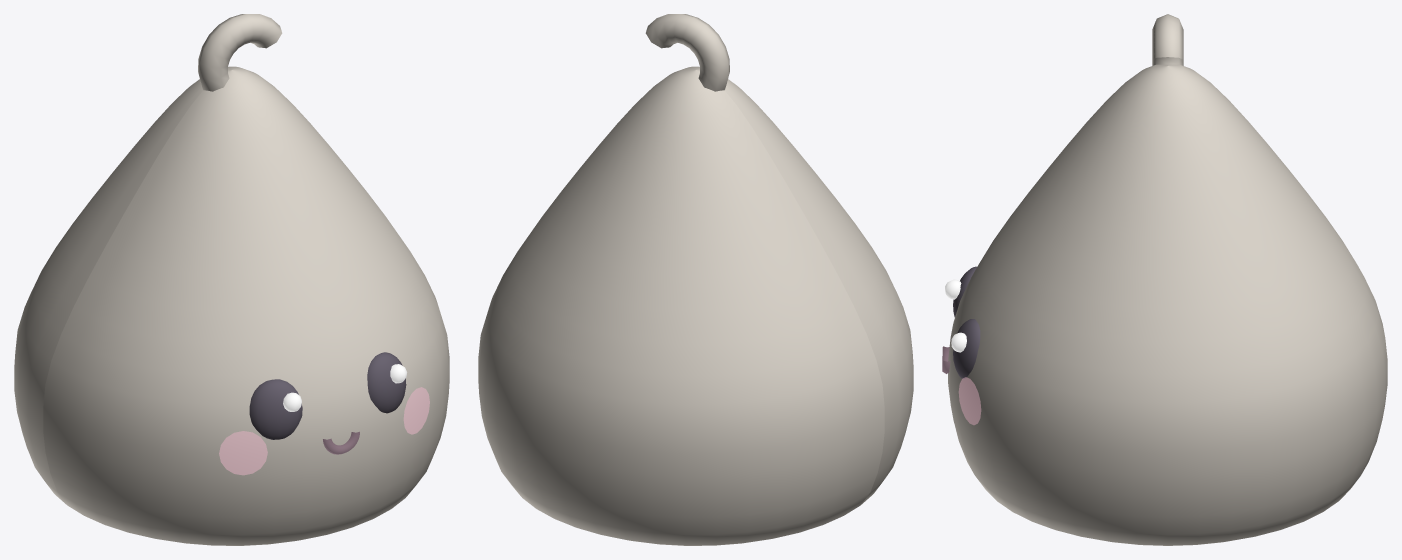
The model's file is squishy_blob.glb.
The picture shows the model from 3 angles, left to right: view 1: azimuth 30°, elevation 25°; view 2: azimuth 150°, elevation 25°; view 3: azimuth 270°, elevation 25°; orthographic projection.
Parts seen in each view (by area): view 1: Body, Part_0, Part_1, Part_3, Part_4, Part_6; view 2: Body, Part_0; view 3: Body, Part_0, Part_4, Part_6.
Part boxes in pixels (bbox=[...]): Body: bbox=[14, 66, 449, 545]; Part_0: bbox=[198, 14, 282, 91]; Part_1: bbox=[249, 379, 302, 439]; Part_3: bbox=[219, 431, 267, 475]; Part_4: bbox=[367, 352, 406, 413]; Part_6: bbox=[403, 387, 429, 434]; Body: bbox=[478, 66, 913, 545]; Part_0: bbox=[645, 14, 729, 91]; Body: bbox=[948, 64, 1387, 545]; Part_0: bbox=[1152, 14, 1183, 65]; Part_4: bbox=[953, 319, 980, 378]; Part_6: bbox=[958, 377, 981, 424].
Size of the model in its own units: 1.96 by 2.38 by 1.99.
